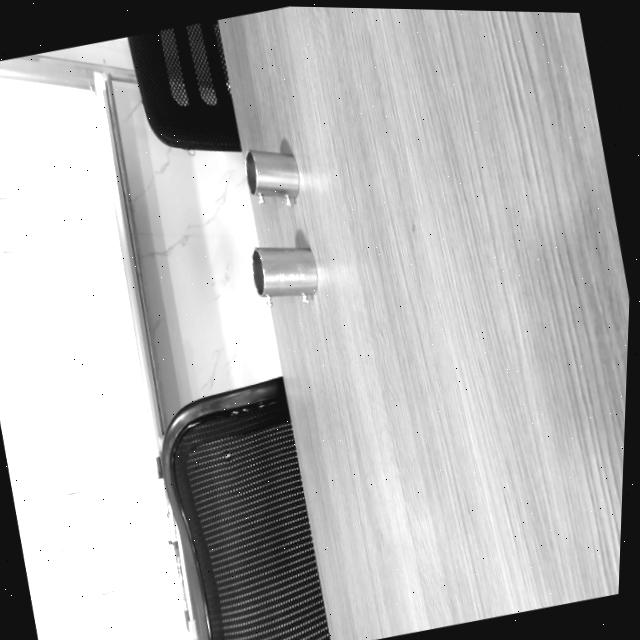Co_Lon: (248, 246, 318, 310)
Co_Nho: (236, 148, 303, 210)
